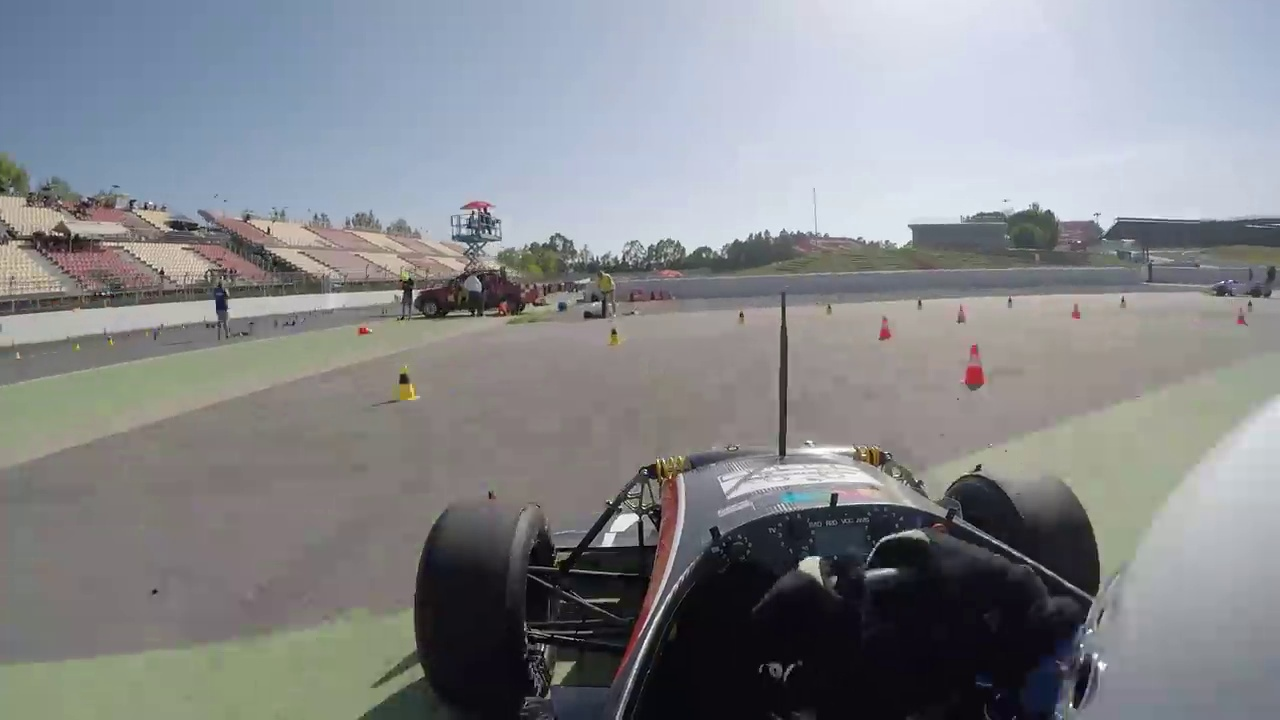Cone: (390, 361, 423, 403), (962, 343, 991, 388)
